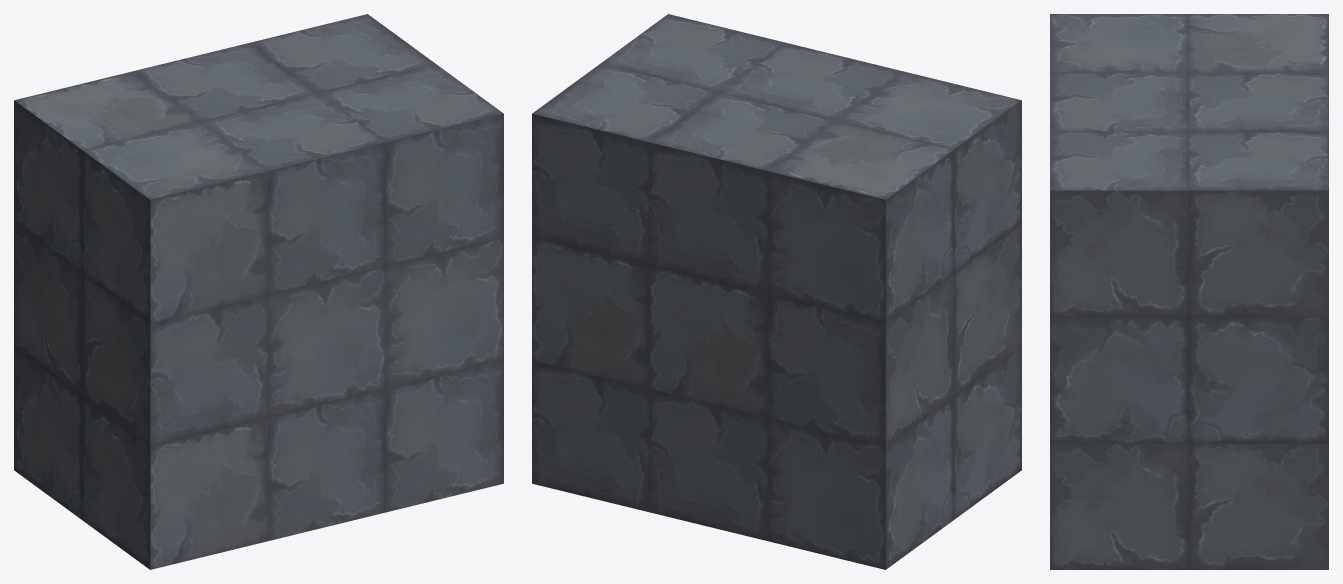
Rendered from Castle Block 3x2x3.fbx.
3 views of the same model, side by side, from view 1: azimuth 30°, elevation 25°; view 2: azimuth 150°, elevation 25°; view 3: azimuth 270°, elevation 25° (orthographic). The views are drawn at different scales.
Parts seen in each view (by area): view 1: Castle Block 3x2x3; view 2: Castle Block 3x2x3; view 3: Castle Block 3x2x3.
Part boxes in pixels (<box>): Castle Block 3x2x3: <box>14,14,503,569</box>; Castle Block 3x2x3: <box>532,14,1021,569</box>; Castle Block 3x2x3: <box>1050,14,1328,569</box>.
Bounding box in the file's own units: 2.25 × 2.25 × 1.5.
